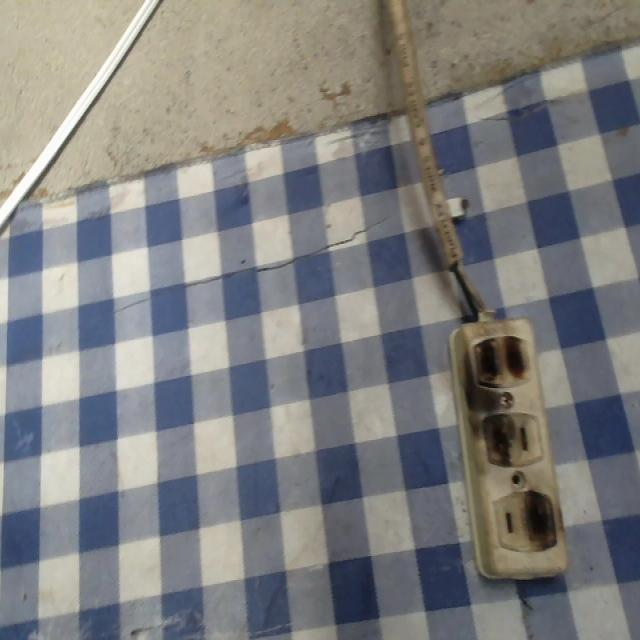-: (469, 331, 534, 385), (519, 482, 563, 558), (480, 411, 517, 473)
